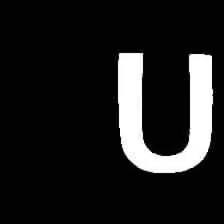LTR_U: (109, 42, 216, 179)
